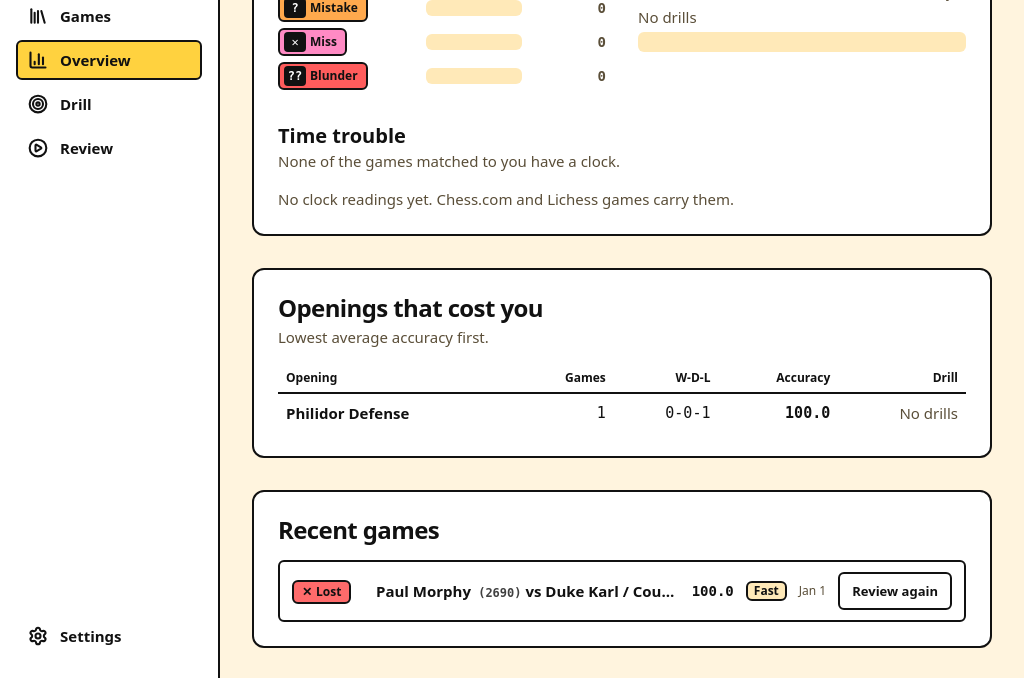
Test: Review again opens the saved game at its saved level without the engine
(page scrolled)
Click the button "Review again": click(895, 591) [838,572,952,610]
(page scrolled)
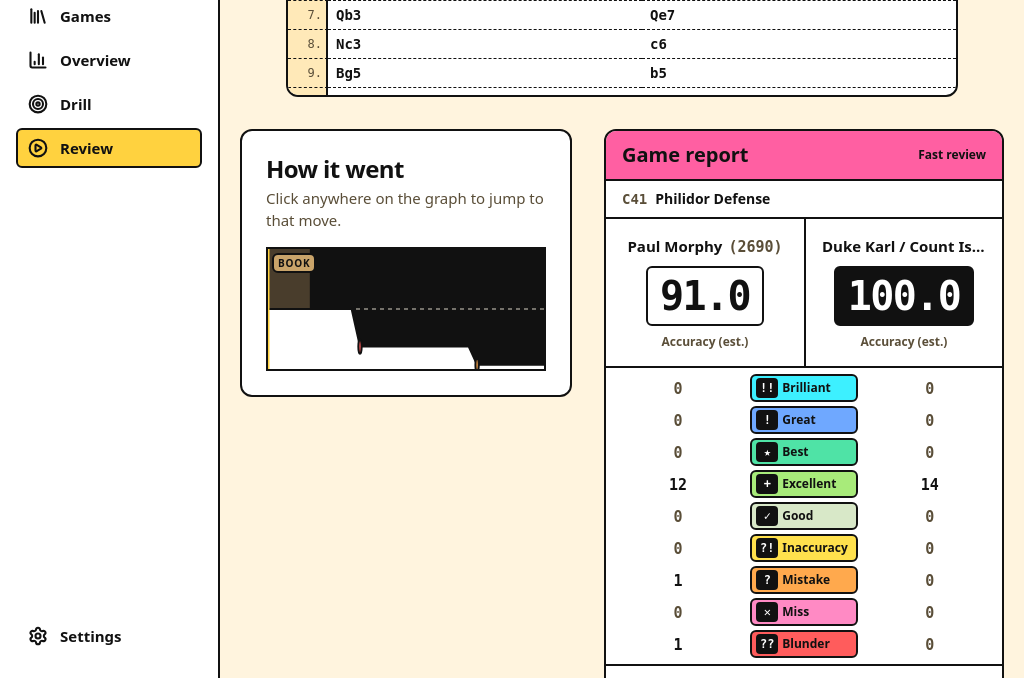
Expected: the text named "Black accuracy estimate" reads "100.0", [834,266,974,326]
Result: the text "Fast review" is shown at [918,147,986,163]
